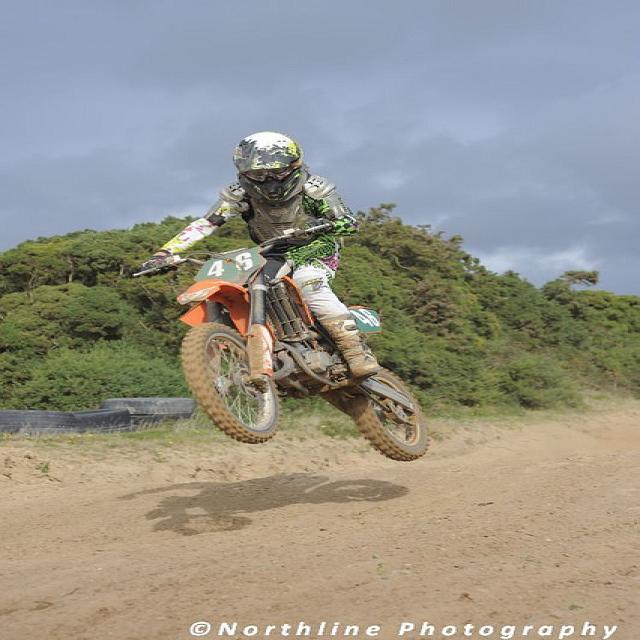motor: (127, 226, 428, 456)
